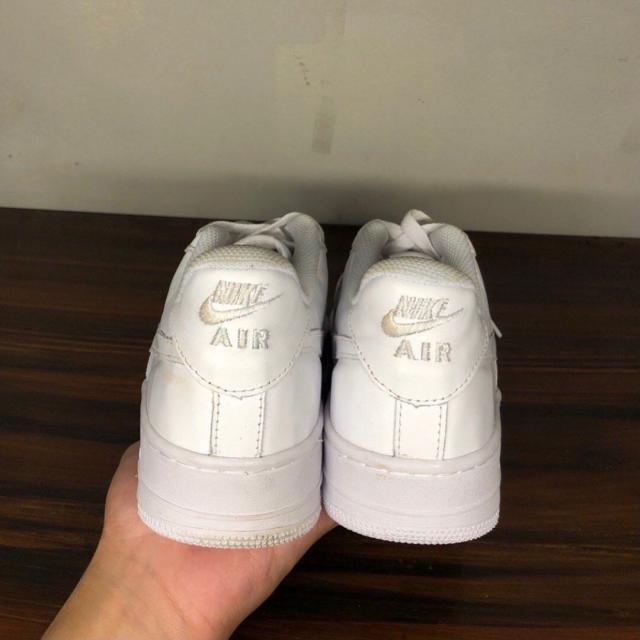nike fake air force: (137, 218, 337, 552), (321, 218, 508, 548)
